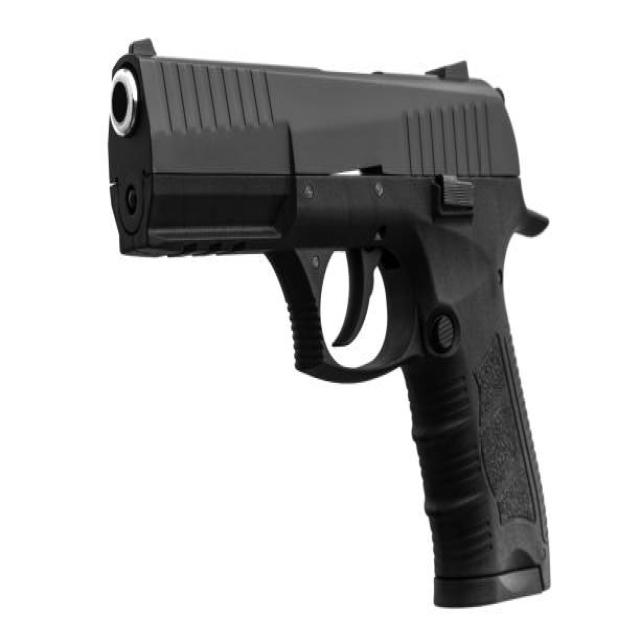pistol: (99, 32, 564, 623)
